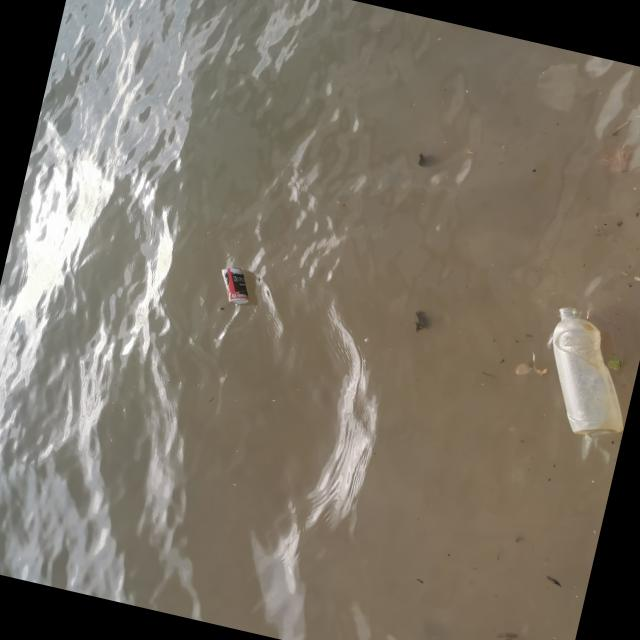can: (216, 265, 255, 307)
plastic bottle: (533, 304, 640, 443)
